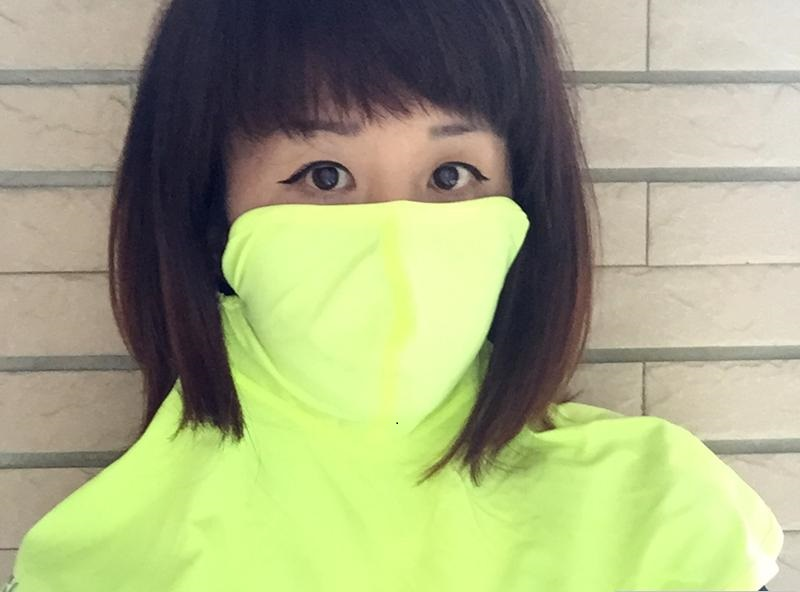face: (228, 51, 532, 417)
